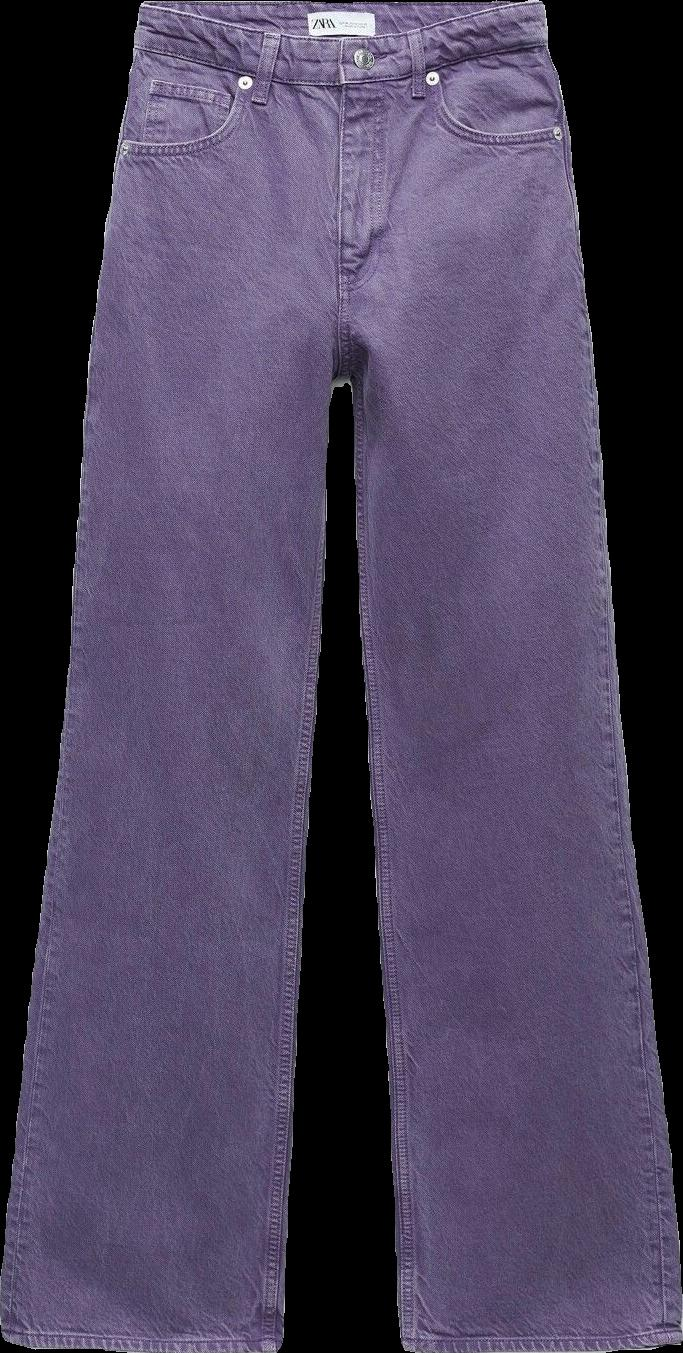Hemline: (0, 1325, 294, 1352), (399, 1330, 682, 1352)
Pantleg: (332, 0, 681, 1352), (0, 0, 342, 1352)
Waistline: (128, 36, 549, 96), (137, 0, 551, 51)
